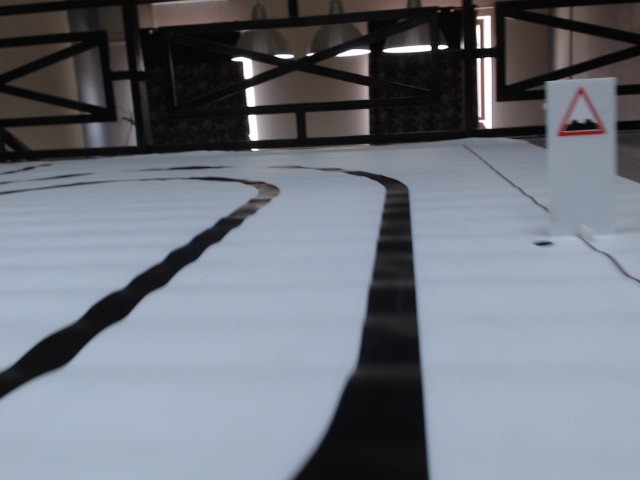Nerov: (554, 88, 609, 137)
